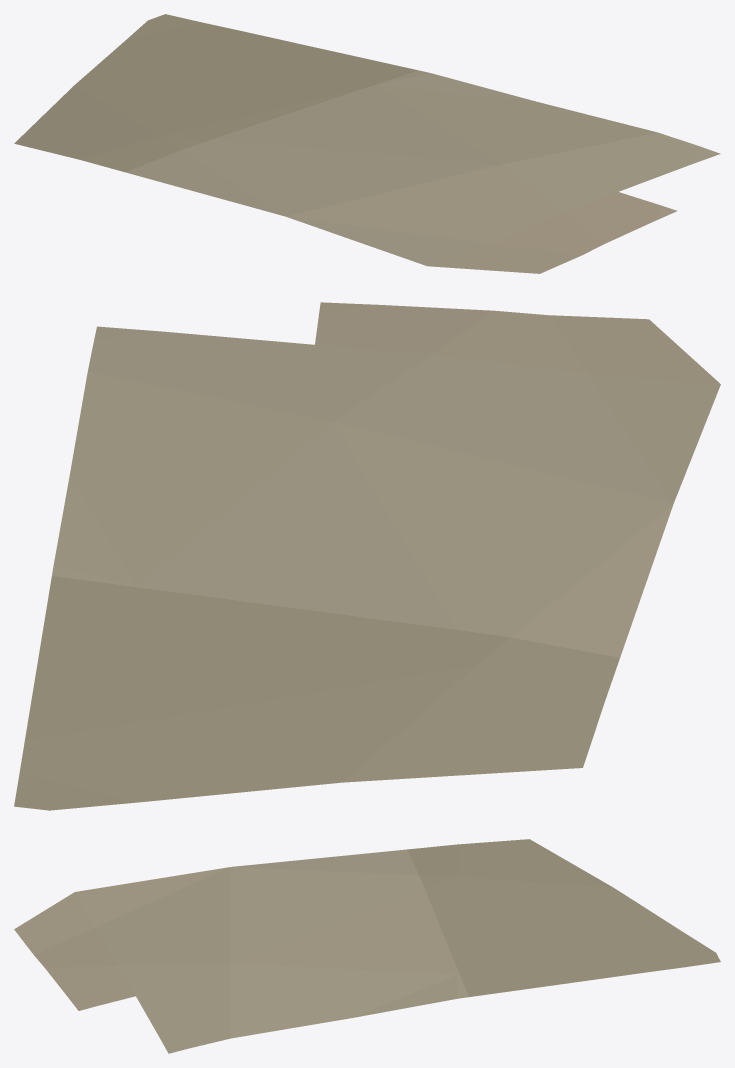
Rendered from farm_7_20_soil.glb.
3 views of the same model, one above another, from view 1: azimuth 30°, elevation 25°; view 2: azimuth 150°, elevation 25°; view 3: azimuth 270°, elevation 25° (orthographic). The views are drawn at different scales.
Visible parts, largest first — view 1: geometry_0; view 2: geometry_0; view 3: geometry_0.
Boxes of the visible parts, <box> form: geometry_0: <box>14,14,720,273</box>; geometry_0: <box>14,302,720,810</box>; geometry_0: <box>14,839,720,1053</box>.
Size of the model in its own units: 188 by 11.17 by 249.
